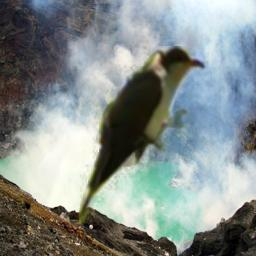Cuckoo: (79, 46, 209, 224)
